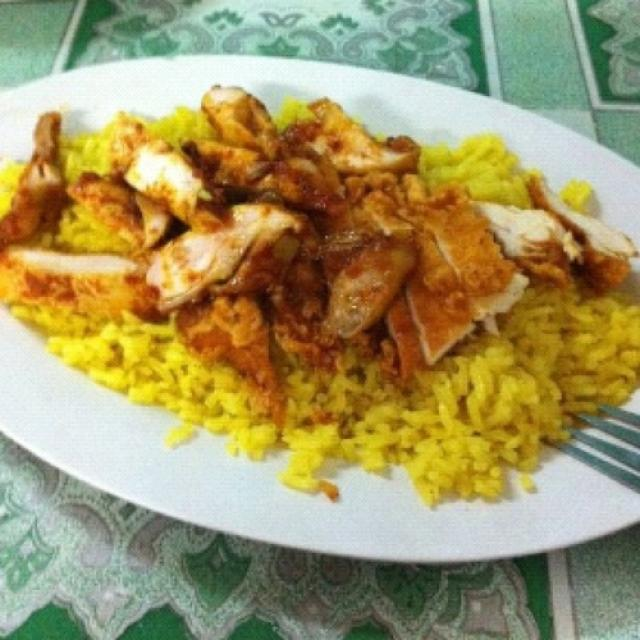米饭主食: (23, 32, 634, 589)
